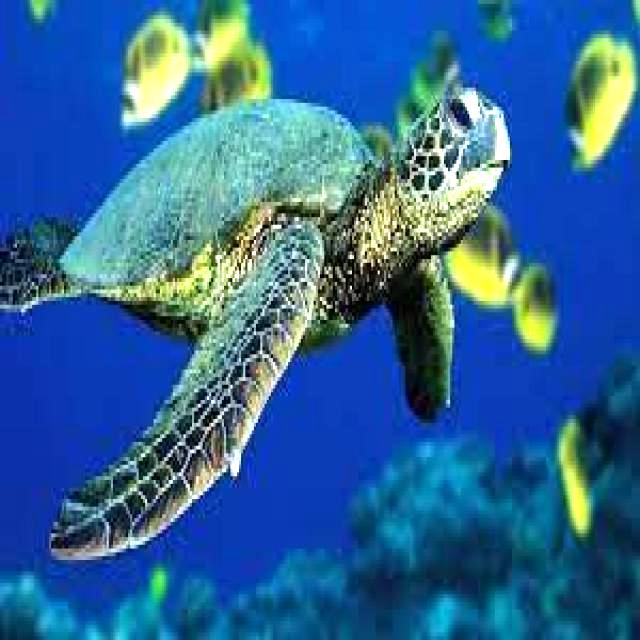Sea turtle: (1, 85, 508, 566)
